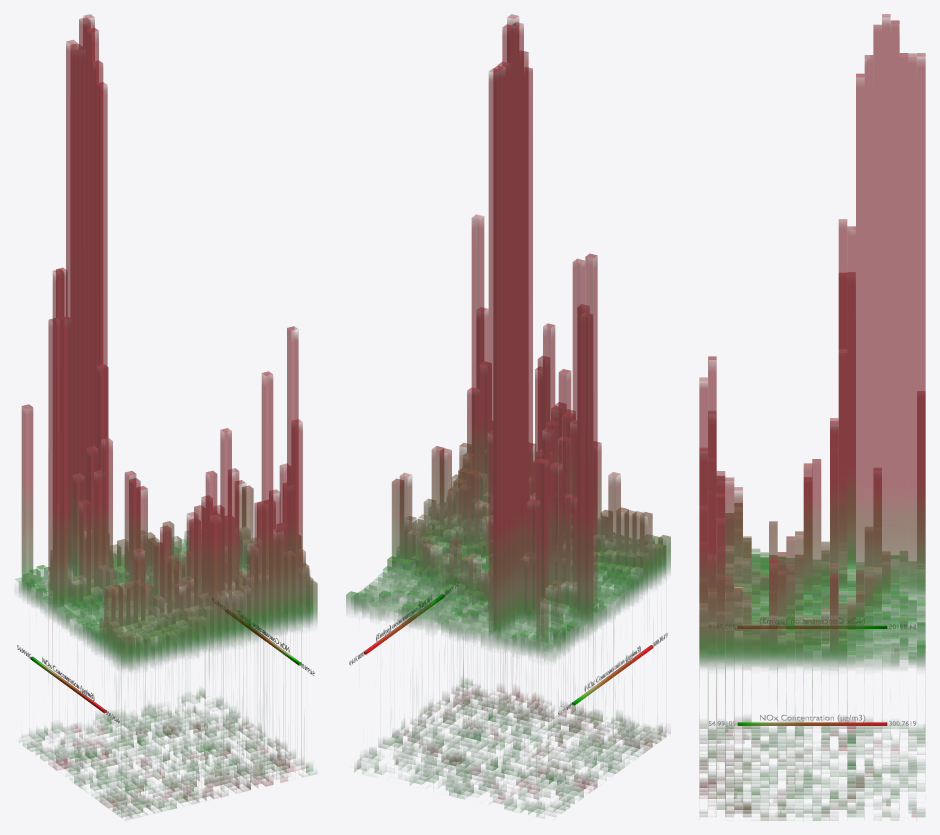
The model's file is TQ3281SW_PM_NOx.gltf.
The picture shows the model from 3 angles, left to right: view 1: azimuth 30°, elevation 25°; view 2: azimuth 150°, elevation 25°; view 3: azimuth 270°, elevation 25°; orthographic projection. The views are drawn at different scales.
Visible parts, largest first — view 1: Cube.677; view 2: Cube.677; view 3: Cube.677, Cube.001, Cube.002.
Part boxes in pixels (box(x1,y1,x2,y2)): Cube.677: box(15, 14, 317, 819); Cube.677: box(346, 14, 670, 816); Cube.677: box(699, 14, 925, 820); Cube.001: box(737, 722, 887, 725); Cube.002: box(738, 626, 887, 628).
Size of the model in its own units: 51.18 by 180 by 49.95.
Materials: 3 (2 with a texture image).
